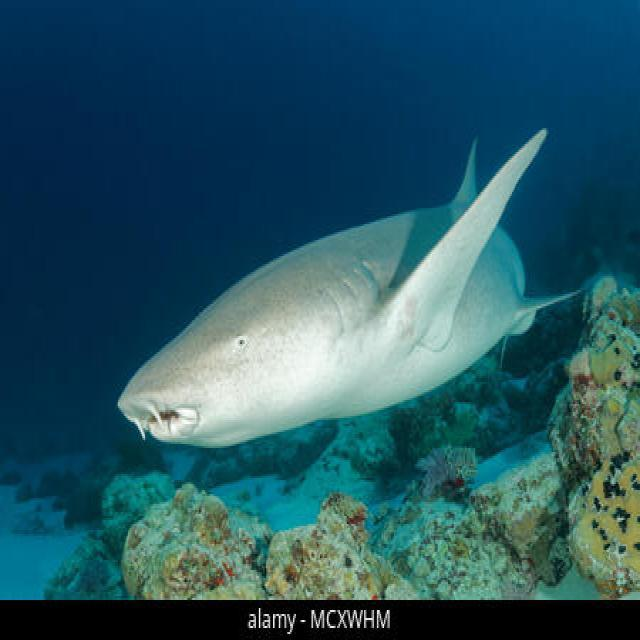Shark: (91, 94, 600, 450)
